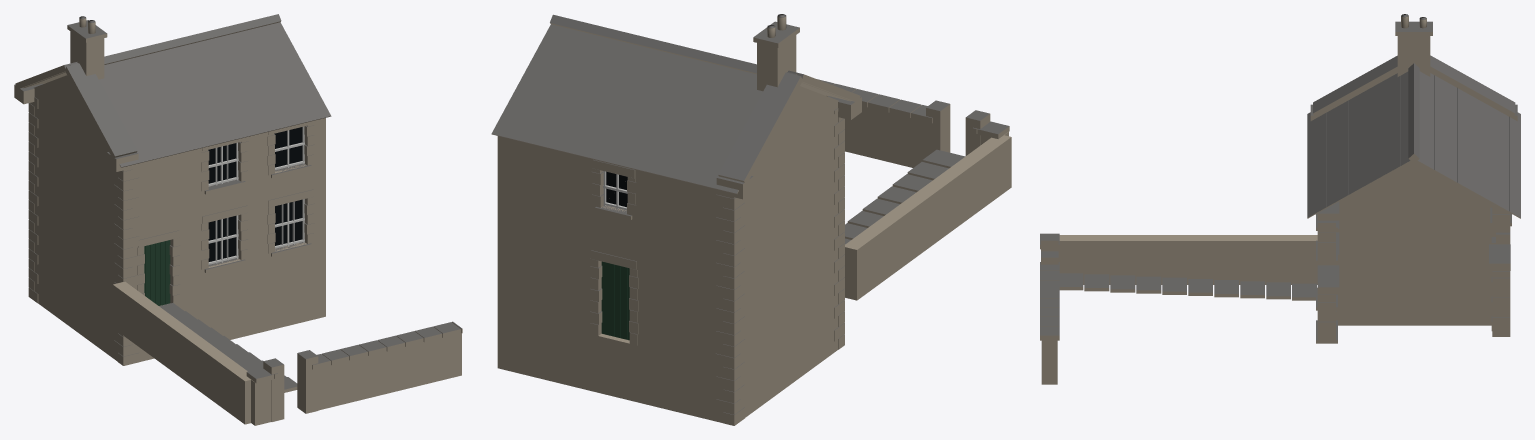
The model's file is context.dales.house_12.glb.
The picture shows the model from 3 angles, left to right: view 1: azimuth 30°, elevation 25°; view 2: azimuth 150°, elevation 25°; view 3: azimuth 270°, elevation 25°; orthographic projection. The views are drawn at different scales.
Visible parts, largest first — view 1: main__stone_a98, main__slate_666, main__glass_dark, main__paint_ccc, main__paint_243; view 2: main__stone_a98, main__slate_666, main__paint_243, main__glass_dark; view 3: main__stone_a98, main__slate_666.
Part boxes in pixels (x1=…): main__stone_a98: x1=14, y1=18, x2=462, y2=425; main__slate_666: x1=15, y1=14, x2=461, y2=389; main__glass_dark: x1=208, y1=127, x2=302, y2=261; main__paint_ccc: x1=208, y1=126, x2=304, y2=264; main__paint_243: x1=144, y1=240, x2=170, y2=305; main__stone_a98: x1=491, y1=16, x2=1011, y2=425; main__slate_666: x1=491, y1=14, x2=1008, y2=414; main__paint_243: x1=601, y1=261, x2=629, y2=340; main__glass_dark: x1=606, y1=171, x2=627, y2=207; main__stone_a98: x1=1040, y1=16, x2=1520, y2=384; main__slate_666: x1=1040, y1=14, x2=1520, y2=340.
Size of the model in its own units: 6.89 by 9.58 by 13.24.
